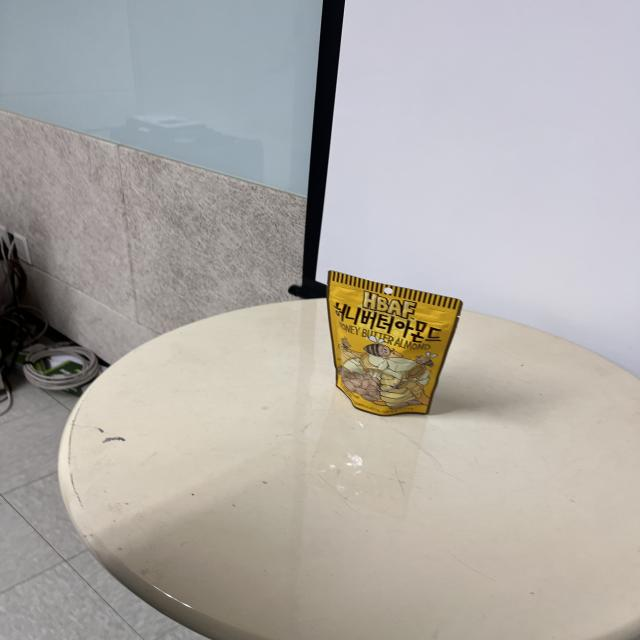honeyAmond: (328, 269, 470, 419)
